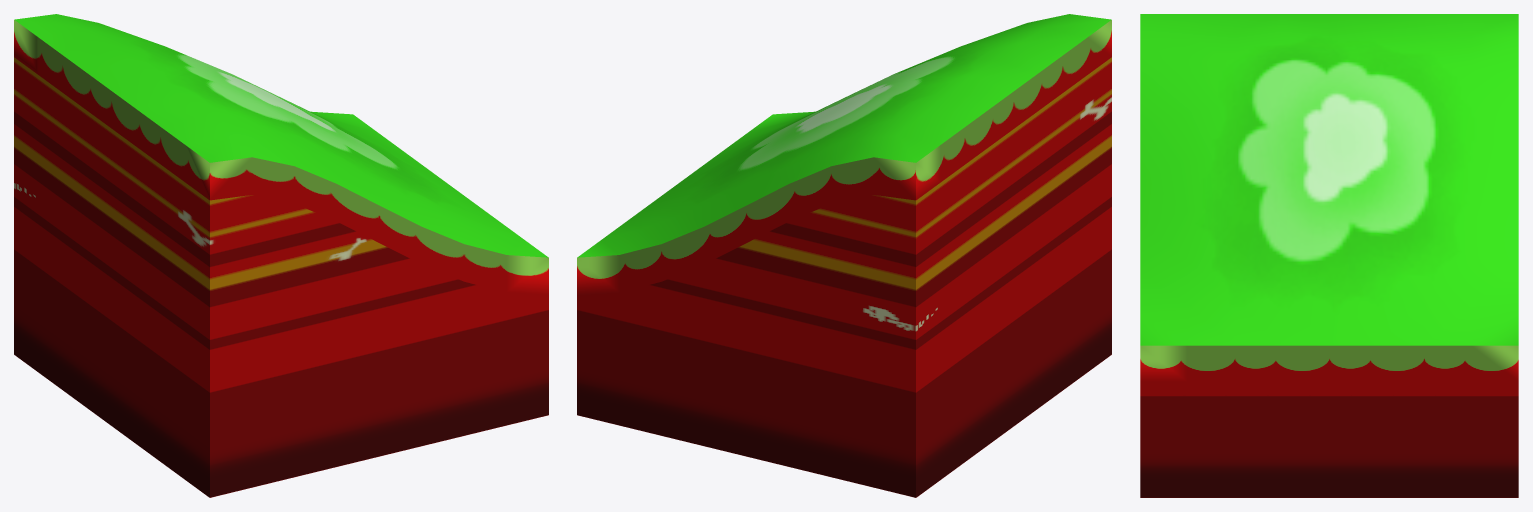
File: block_rect_curved_hill_1x1.obj
The picture shows the model from 3 angles, left to right: view 1: azimuth 30°, elevation 25°; view 2: azimuth 150°, elevation 25°; view 3: azimuth 270°, elevation 25°; orthographic projection. The views are drawn at different scales.
Parts seen in each view (by area): view 1: block_rect_1x1:Mesh polySurface3 polySurface1, polySurface2 block_rect_1x1:Mesh, block_rect_1x1:Mesh polySurface1 polySurface4; view 2: block_rect_1x1:Mesh polySurface3 polySurface1, polySurface2 block_rect_1x1:Mesh, block_rect_1x1:Mesh polySurface1 polySurface4; view 3: polySurface2 block_rect_1x1:Mesh, block_rect_1x1:Mesh polySurface3 polySurface1, block_rect_1x1:Mesh polySurface1 polySurface4.
Part boxes in pixels (box(x1,y1,x2,y2)): block_rect_1x1:Mesh polySurface3 polySurface1: box(14, 57, 548, 497); polySurface2 block_rect_1x1:Mesh: box(14, 14, 548, 257); block_rect_1x1:Mesh polySurface1 polySurface4: box(14, 20, 548, 295); block_rect_1x1:Mesh polySurface3 polySurface1: box(577, 57, 1111, 497); polySurface2 block_rect_1x1:Mesh: box(577, 14, 1111, 257); block_rect_1x1:Mesh polySurface1 polySurface4: box(577, 20, 1111, 295); polySurface2 block_rect_1x1:Mesh: box(1140, 14, 1518, 345); block_rect_1x1:Mesh polySurface3 polySurface1: box(1140, 382, 1518, 497); block_rect_1x1:Mesh polySurface1 polySurface4: box(1140, 345, 1518, 381).
Size of the model in its own units: 100 by 95.54 by 100.
